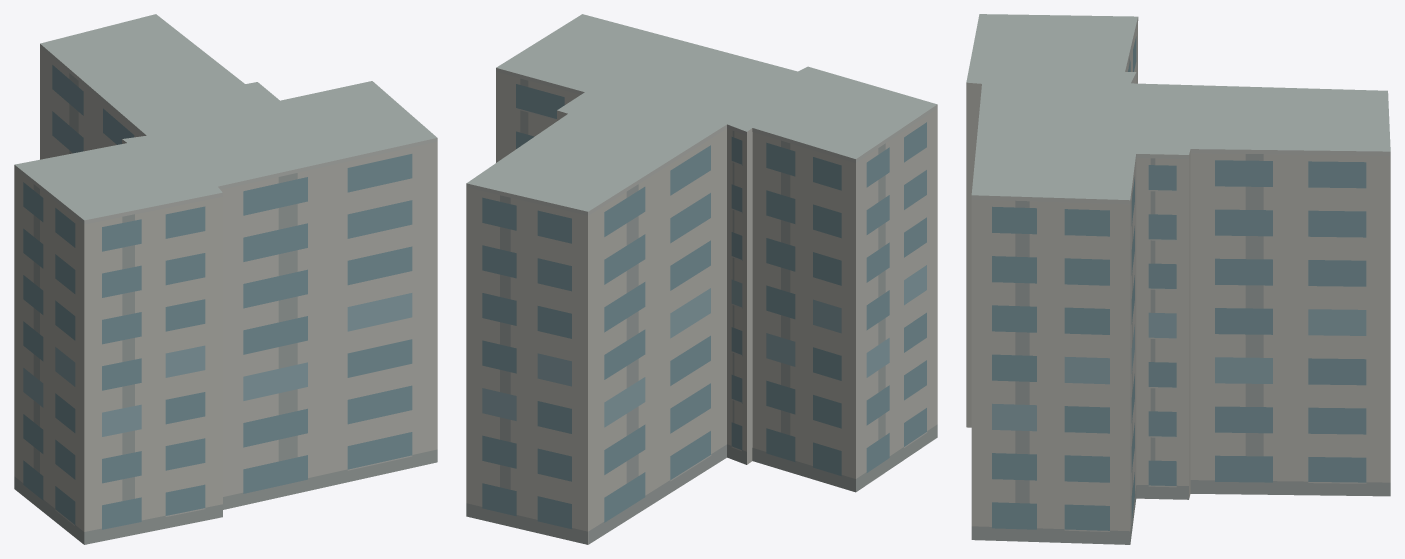
File: survey-upis-32937838.glb
3 renders of one model, left to right at view 1: azimuth 30°, elevation 25°; view 2: azimuth 150°, elevation 25°; view 3: azimuth 270°, elevation 25°, orthographic. The views are drawn at different scales.
Parts seen in each view (by area): view 1: survey-upis-32937838.tmp; view 2: survey-upis-32937838.tmp; view 3: survey-upis-32937838.tmp.
Part boxes in pixels (x1,y1,x2,y2): survey-upis-32937838.tmp: (14, 14, 437, 544); survey-upis-32937838.tmp: (466, 14, 937, 544); survey-upis-32937838.tmp: (966, 14, 1390, 544).
Size of the model in its own units: 23.29 by 20.1 by 22.44.
